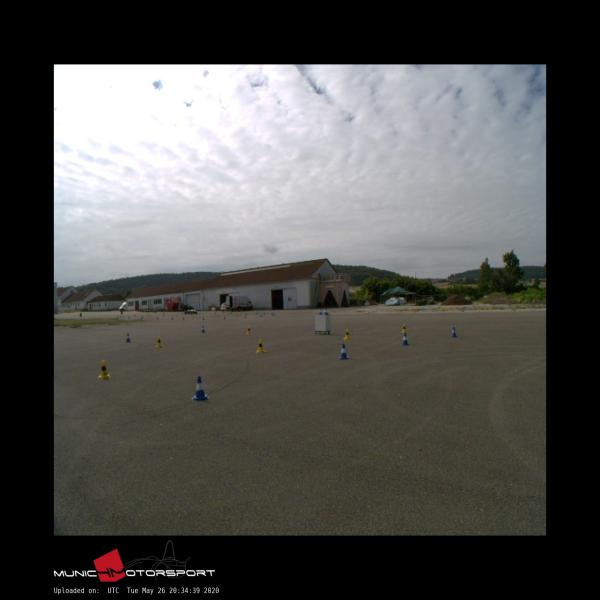blue_cone: (191, 376, 210, 400), (338, 343, 348, 359), (401, 332, 408, 344), (450, 326, 456, 336), (125, 333, 130, 342), (202, 325, 206, 333), (318, 308, 322, 315), (324, 308, 328, 315)
yellow_cone: (97, 359, 111, 378), (256, 338, 265, 352), (155, 337, 163, 347), (343, 329, 351, 338), (401, 324, 407, 333), (247, 325, 251, 334)
